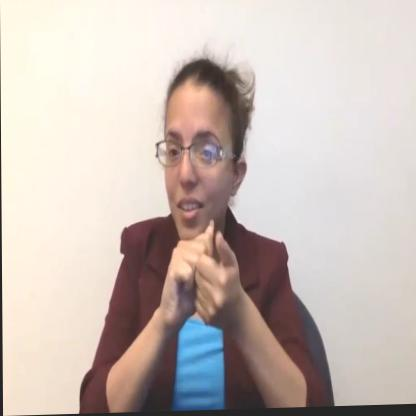HowAreYou: (159, 208, 254, 356)
